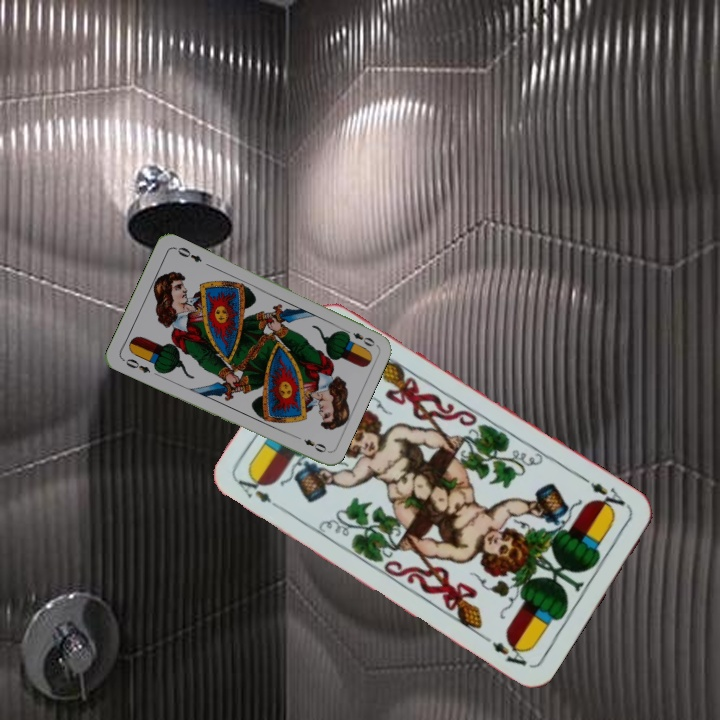EA: (233, 469, 286, 513), (579, 473, 632, 515)
EO: (339, 325, 378, 349), (118, 355, 153, 376)
